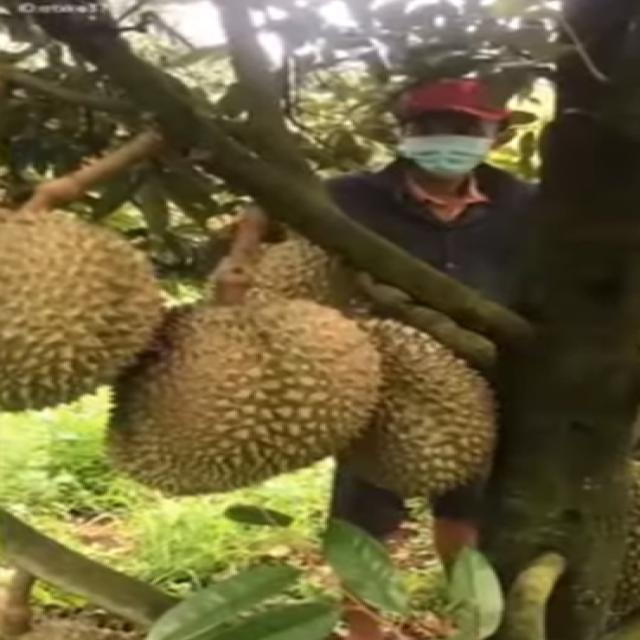mature: (94, 298, 384, 498), (297, 319, 504, 501), (0, 204, 168, 418)
